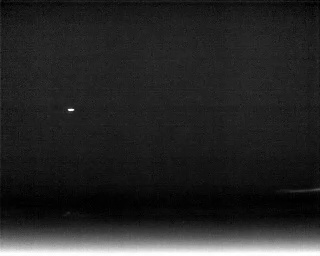AIRPLANE: (66, 106, 76, 114)
